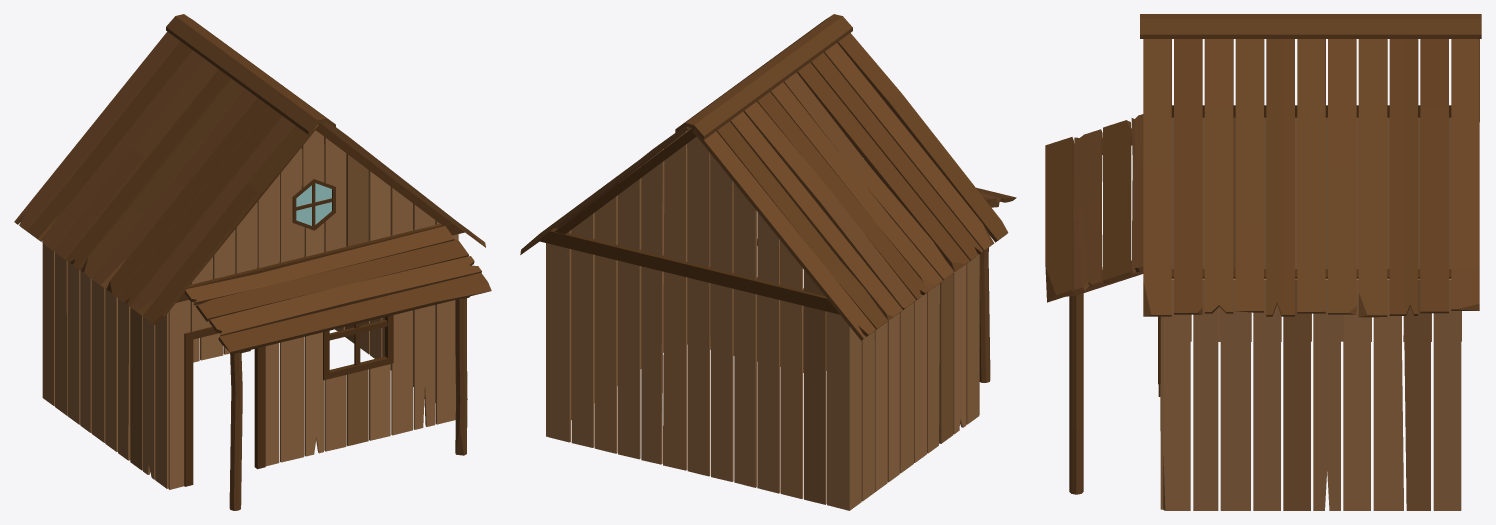
File: House_05.fbx
3 views of the same model, side by side, from view 1: azimuth 30°, elevation 25°; view 2: azimuth 150°, elevation 25°; view 3: azimuth 270°, elevation 25° (orthographic). The views are drawn at different scales.
Parts seen in each view (by area): view 1: House_05; view 2: House_05; view 3: House_05.
Part boxes in pixels (x1,y1,x2,y2): House_05: [14, 14, 491, 510]; House_05: [520, 14, 1016, 510]; House_05: [1045, 14, 1481, 510].
Bounding box in the file's own units: 487 × 475 × 459.
